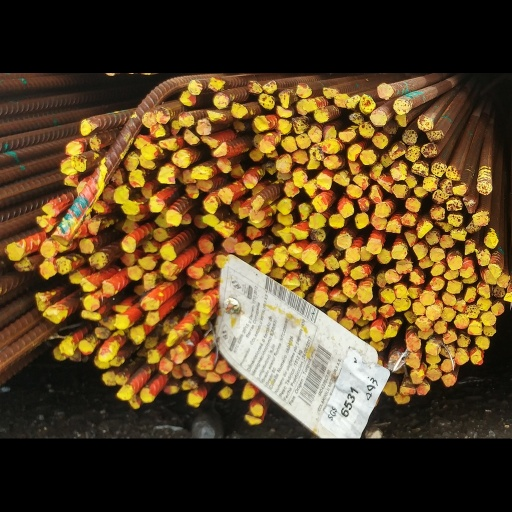dipstick: (43, 302, 67, 326), (4, 242, 27, 262), (386, 349, 406, 372), (34, 291, 55, 312), (358, 91, 376, 115), (34, 215, 58, 233), (156, 165, 177, 185), (37, 258, 57, 279), (251, 115, 273, 134), (57, 156, 79, 175), (296, 98, 319, 116), (369, 107, 389, 127), (159, 261, 179, 281), (87, 251, 108, 270), (190, 164, 214, 180), (256, 92, 276, 111), (375, 81, 394, 101), (314, 172, 333, 192), (221, 234, 240, 254), (159, 242, 178, 262), (39, 239, 58, 259), (333, 231, 354, 249), (212, 220, 234, 237), (162, 315, 184, 332), (170, 363, 193, 379), (416, 114, 435, 133), (171, 149, 190, 168), (282, 271, 301, 290), (358, 147, 378, 165), (337, 199, 355, 219), (180, 127, 200, 145), (123, 151, 141, 171), (113, 185, 133, 203), (355, 284, 373, 304), (63, 140, 87, 155), (11, 257, 35, 272), (129, 324, 146, 345), (392, 97, 411, 115), (388, 141, 406, 160), (386, 217, 405, 235), (370, 211, 388, 230), (352, 172, 370, 191), (416, 221, 435, 239), (259, 135, 277, 154), (275, 153, 293, 172), (475, 177, 493, 196), (211, 140, 230, 158), (216, 186, 234, 205), (120, 235, 138, 254), (70, 154, 88, 173), (82, 292, 100, 311), (116, 383, 135, 401), (403, 334, 422, 352), (211, 92, 231, 109), (420, 142, 440, 159), (377, 173, 394, 193), (374, 202, 394, 219), (384, 267, 404, 284), (470, 210, 490, 227), (77, 238, 97, 255), (78, 275, 98, 292), (241, 382, 258, 402), (469, 347, 486, 367), (289, 224, 310, 240), (475, 246, 491, 267), (166, 206, 182, 227), (341, 278, 357, 299), (292, 167, 307, 189), (484, 227, 499, 249), (371, 131, 389, 149), (411, 159, 429, 177), (140, 141, 158, 159), (128, 169, 146, 187), (198, 236, 216, 254), (55, 256, 73, 274), (169, 345, 187, 363), (440, 342, 458, 360), (361, 303, 379, 321), (358, 120, 375, 139), (390, 162, 407, 181), (430, 159, 447, 178), (422, 173, 439, 192), (303, 179, 320, 198), (378, 287, 397, 304), (415, 315, 434, 332), (153, 107, 172, 124), (147, 195, 166, 212), (254, 256, 273, 273), (392, 296, 412, 312), (417, 289, 437, 305), (203, 194, 219, 214), (328, 287, 348, 303), (120, 200, 141, 215), (205, 109, 227, 123), (230, 101, 247, 119), (295, 81, 313, 98), (404, 144, 421, 162), (365, 237, 382, 255), (292, 116, 309, 134), (276, 117, 294, 134), (440, 305, 457, 323), (187, 78, 204, 96), (299, 272, 316, 290), (76, 338, 94, 355), (139, 387, 157, 404), (249, 400, 266, 418), (475, 333, 492, 351), (208, 76, 227, 92), (312, 194, 328, 213), (323, 154, 342, 170), (286, 241, 302, 260), (395, 258, 414, 274), (461, 195, 477, 214), (138, 155, 157, 171), (232, 241, 251, 257), (350, 264, 369, 280), (322, 271, 341, 287), (138, 255, 157, 271), (382, 323, 401, 339), (368, 184, 383, 204), (444, 197, 464, 212), (196, 275, 216, 290), (455, 346, 470, 366), (157, 138, 180, 151), (278, 88, 292, 109), (432, 218, 453, 232), (301, 248, 318, 265), (332, 169, 349, 186), (313, 106, 330, 123), (276, 198, 293, 215), (453, 313, 470, 330), (179, 90, 196, 107), (312, 289, 329, 306), (126, 394, 143, 411), (405, 352, 422, 369), (346, 143, 362, 161), (328, 213, 346, 229), (322, 138, 340, 154), (280, 136, 298, 152), (273, 244, 285, 268), (446, 252, 462, 270), (479, 310, 497, 326), (41, 202, 59, 218), (57, 340, 75, 356), (426, 363, 442, 381), (322, 85, 341, 100), (308, 213, 327, 228), (250, 194, 265, 213), (275, 212, 294, 227), (307, 258, 326, 273), (477, 280, 492, 299), (464, 219, 483, 234), (186, 264, 205, 279), (142, 311, 161, 326), (195, 299, 214, 314), (101, 278, 116, 297), (338, 130, 358, 144), (309, 228, 329, 242), (90, 201, 110, 215), (165, 327, 179, 347), (423, 129, 444, 142), (333, 92, 350, 108), (401, 128, 417, 145), (401, 211, 417, 228), (424, 229, 440, 246), (294, 133, 311, 149), (284, 180, 300, 197), (393, 283, 410, 299), (410, 300, 427, 316), (476, 296, 493, 312), (178, 111, 195, 127), (242, 172, 259, 188), (196, 118, 212, 135), (80, 119, 97, 135), (110, 169, 127, 185), (69, 269, 86, 285), (185, 391, 202, 407), (456, 332, 473, 348), (369, 324, 385, 341), (346, 304, 362, 321), (355, 211, 370, 229), (347, 157, 362, 175), (307, 124, 322, 142), (409, 271, 427, 286), (141, 296, 159, 311), (88, 134, 103, 152), (401, 377, 416, 395), (440, 372, 458, 387), (378, 303, 396, 318), (442, 267, 461, 281), (195, 177, 214, 191), (154, 214, 173, 228), (80, 310, 104, 321), (60, 174, 80, 187), (344, 94, 360, 110), (394, 111, 410, 127), (404, 197, 420, 213), (430, 205, 446, 221), (346, 183, 362, 199), (291, 149, 307, 165), (324, 255, 340, 271), (344, 247, 360, 263), (428, 245, 444, 261), (490, 300, 506, 316), (248, 239, 264, 255), (114, 313, 130, 329), (408, 369, 424, 385), (368, 163, 383, 180), (392, 182, 407, 199), (391, 243, 408, 258), (412, 243, 427, 260), (441, 291, 458, 306), (445, 279, 462, 294), (464, 304, 481, 319), (463, 285, 478, 302), (446, 165, 461, 182), (438, 178, 453, 195), (481, 269, 496, 286), (142, 110, 157, 127), (193, 212, 208, 229), (203, 213, 220, 228), (146, 348, 161, 365), (182, 377, 199, 392), (197, 356, 214, 371), (283, 256, 301, 270), (449, 227, 467, 241), (143, 273, 157, 291), (87, 217, 101, 235), (92, 354, 110, 368), (417, 378, 431, 396), (298, 202, 311, 221), (451, 184, 470, 197), (109, 302, 131, 313), (263, 79, 278, 95), (418, 255, 434, 270), (429, 276, 445, 291), (406, 285, 422, 300), (458, 263, 474, 278), (468, 320, 483, 336), (230, 163, 245, 179), (133, 134, 149, 149), (339, 257, 351, 277), (127, 264, 142, 280), (195, 342, 211, 357), (433, 319, 448, 335), (246, 80, 263, 94), (357, 196, 371, 213), (276, 230, 293, 244), (122, 218, 139, 232), (244, 225, 261, 239), (102, 186, 116, 203), (214, 359, 231, 373), (384, 380, 398, 397), (404, 171, 417, 189), (275, 105, 293, 118), (76, 221, 89, 239), (159, 356, 172, 374), (243, 414, 261, 427), (489, 261, 501, 280), (199, 135, 218, 147), (322, 125, 337, 140), (430, 261, 445, 276), (425, 304, 440, 319), (261, 160, 276, 175), (216, 158, 231, 173), (149, 123, 164, 138), (185, 184, 200, 199), (358, 325, 373, 340), (377, 247, 391, 263), (231, 120, 247, 134), (182, 169, 196, 185), (440, 358, 456, 372), (439, 233, 452, 250), (447, 213, 464, 226), (237, 203, 250, 220), (217, 386, 234, 399), (188, 289, 206, 301), (424, 353, 442, 365), (379, 152, 394, 166), (359, 245, 373, 260), (249, 148, 264, 162), (252, 133, 266, 148), (100, 347, 114, 362), (101, 371, 116, 385), (181, 295, 196, 309), (50, 344, 64, 359), (145, 336, 160, 350), (221, 371, 236, 385), (425, 341, 439, 356), (348, 112, 364, 125), (402, 311, 418, 324), (152, 228, 168, 241), (113, 372, 129, 385), (337, 316, 353, 329), (498, 272, 510, 289), (142, 240, 159, 252), (203, 371, 221, 382), (431, 190, 445, 204), (327, 307, 341, 321), (413, 184, 428, 197), (464, 239, 477, 254), (404, 231, 416, 247), (141, 183, 153, 199), (270, 267, 286, 279), (95, 326, 111, 338), (275, 169, 292, 180), (377, 271, 388, 288), (395, 394, 412, 405), (270, 223, 284, 236), (492, 285, 505, 299), (230, 200, 243, 214), (482, 325, 498, 336), (109, 356, 125, 367), (163, 385, 179, 395), (69, 348, 81, 361), (171, 121, 182, 135), (131, 284, 145, 295), (355, 318, 369, 327), (181, 214, 192, 225)
